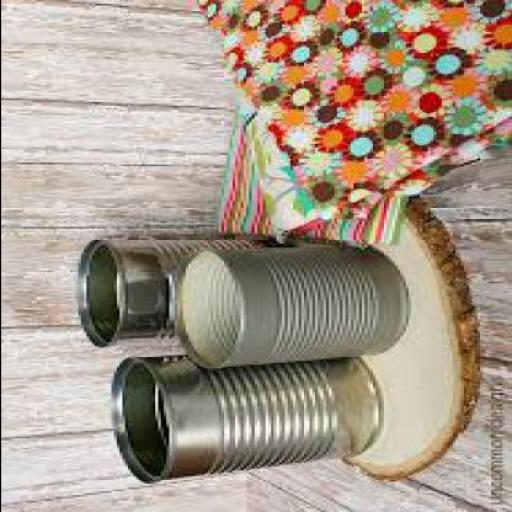metal: (107, 357, 380, 486), (171, 248, 410, 370), (74, 240, 284, 350)
